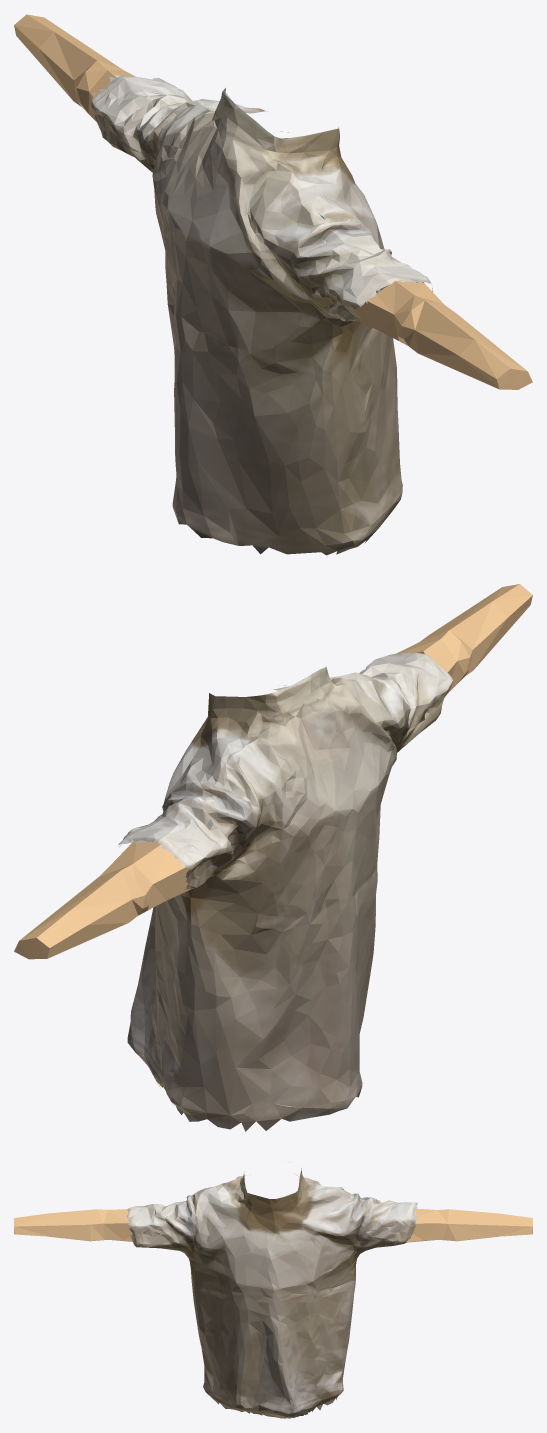
Rendered from WhiteShirt.glb.
3 renders of one model, top to bottom at view 1: azimuth 30°, elevation 25°; view 2: azimuth 150°, elevation 25°; view 3: azimuth 270°, elevation 25°, orthographic. The views are drawn at different scales.
Visible parts, largest first — view 1: Torso; view 2: Torso; view 3: Torso.
Part boxes in pixels (x1,y1,x2,y2): Torso: [14, 14, 532, 555]; Torso: [14, 584, 532, 1131]; Torso: [14, 1168, 532, 1418].
Size of the model in its own units: 0.5052 by 0.9462 by 1.96.
2 materials, 1 textured.
